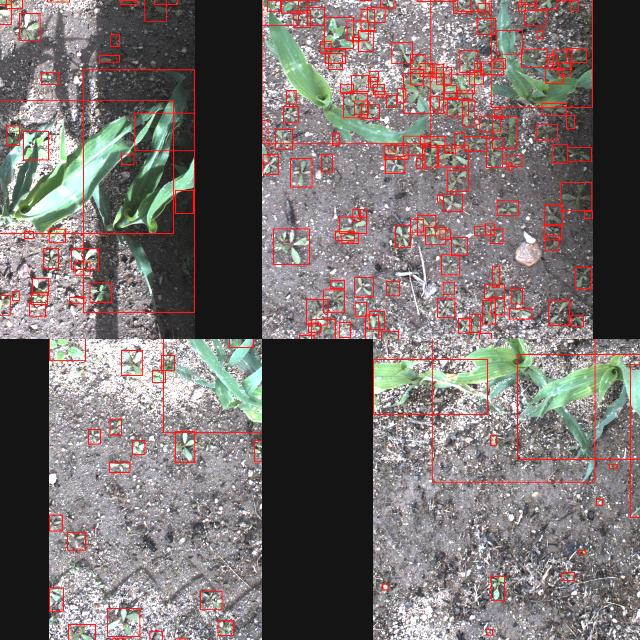crop: (84, 68, 194, 312), (262, 0, 430, 142), (431, 339, 594, 481), (0, 99, 173, 232), (517, 353, 640, 458), (490, 0, 591, 106), (162, 339, 262, 432), (372, 358, 488, 414), (262, 119, 267, 162)
weed: (134, 112, 194, 150), (403, 73, 443, 113), (272, 228, 308, 264), (323, 16, 352, 48), (560, 182, 592, 210), (107, 608, 139, 636), (22, 130, 48, 160), (492, 116, 516, 148), (48, 339, 84, 360), (496, 29, 522, 53), (174, 431, 194, 462), (438, 146, 468, 166), (444, 73, 474, 93), (342, 93, 366, 117), (19, 12, 39, 40), (290, 158, 310, 186), (548, 300, 570, 324), (120, 350, 142, 374), (72, 248, 98, 268), (306, 298, 326, 324), (310, 318, 334, 339), (338, 216, 366, 234), (486, 137, 502, 167), (521, 48, 547, 66), (322, 289, 343, 311), (447, 169, 468, 191), (67, 623, 94, 640), (89, 282, 111, 302), (416, 214, 436, 236), (346, 20, 368, 40), (144, 0, 165, 20), (391, 42, 411, 62), (175, 190, 193, 212), (544, 204, 562, 226), (402, 136, 424, 154), (459, 50, 477, 72), (200, 591, 222, 609), (353, 276, 372, 296), (441, 254, 459, 274), (425, 226, 445, 244), (442, 193, 462, 211), (552, 50, 572, 68), (274, 128, 292, 148), (447, 98, 468, 115), (575, 266, 591, 288), (394, 225, 410, 247), (524, 9, 546, 25), (364, 314, 378, 339), (383, 145, 407, 159), (567, 146, 591, 160), (542, 102, 566, 116), (490, 576, 504, 600), (306, 7, 324, 25), (67, 531, 85, 549), (42, 248, 58, 268), (438, 298, 454, 318), (384, 156, 404, 172), (536, 123, 556, 139), (480, 115, 500, 131), (476, 18, 496, 34), (262, 154, 278, 174), (462, 100, 474, 126), (281, 0, 307, 12), (422, 145, 436, 167), (464, 136, 486, 150), (360, 9, 374, 31), (481, 60, 503, 74), (48, 588, 62, 610), (497, 200, 518, 214), (368, 311, 384, 329), (482, 299, 494, 323), (543, 224, 561, 240), (451, 237, 467, 255), (552, 144, 568, 162), (350, 75, 368, 91), (361, 102, 379, 118), (366, 6, 384, 22), (410, 54, 426, 72), (292, 10, 310, 26), (5, 125, 19, 145), (484, 284, 504, 298), (325, 48, 345, 62), (358, 30, 372, 50), (566, 48, 586, 62), (457, 0, 485, 10), (32, 278, 48, 294), (282, 106, 298, 122), (545, 68, 563, 82), (508, 308, 532, 318), (420, 136, 444, 146), (0, 0, 10, 23), (29, 301, 45, 315), (49, 228, 65, 242), (490, 298, 504, 314), (327, 53, 341, 69), (436, 67, 450, 83), (48, 514, 62, 530), (453, 0, 470, 13), (108, 462, 130, 472), (41, 72, 59, 84), (160, 354, 173, 370), (334, 230, 354, 240), (228, 339, 253, 347), (534, 0, 556, 9), (321, 154, 332, 172), (354, 100, 368, 114), (419, 62, 433, 76), (469, 70, 483, 84), (218, 620, 232, 634), (74, 262, 90, 274), (31, 292, 47, 304), (510, 287, 522, 303), (386, 280, 398, 296), (506, 154, 522, 166), (546, 234, 558, 250), (410, 68, 422, 84), (109, 418, 121, 434), (87, 428, 99, 444), (253, 439, 262, 460), (0, 295, 9, 315), (469, 314, 479, 332), (340, 232, 358, 242), (338, 322, 350, 336), (354, 302, 366, 316), (458, 318, 470, 332), (570, 314, 584, 326), (490, 229, 502, 243), (410, 218, 422, 232), (444, 84, 456, 98), (431, 63, 443, 77), (558, 62, 570, 76), (132, 440, 144, 454), (492, 266, 500, 286), (454, 132, 464, 148), (380, 330, 397, 339), (152, 370, 164, 382), (266, 0, 279, 11), (120, 154, 134, 164), (99, 54, 119, 61), (429, 95, 439, 109), (458, 89, 472, 99), (285, 90, 295, 104), (442, 282, 453, 294), (148, 630, 161, 640), (110, 34, 120, 46), (307, 322, 319, 332), (474, 225, 486, 235), (386, 95, 396, 107), (320, 40, 330, 52), (493, 58, 505, 68), (478, 2, 488, 14), (70, 296, 84, 304), (6, 0, 22, 7), (330, 279, 344, 287), (566, 114, 574, 128), (397, 88, 405, 102), (485, 223, 495, 234), (372, 84, 383, 94), (379, 0, 394, 7), (440, 229, 450, 239), (368, 70, 378, 80), (352, 209, 360, 221), (340, 84, 352, 92), (562, 572, 574, 580), (479, 332, 491, 339), (416, 157, 424, 167), (549, 54, 557, 64), (570, 0, 578, 10), (298, 334, 313, 339), (23, 230, 32, 238), (494, 109, 502, 118), (374, 91, 386, 97), (474, 62, 480, 74), (518, 1, 526, 10), (332, 132, 338, 144), (369, 76, 376, 86), (120, 0, 136, 4), (584, 210, 592, 218), (387, 144, 395, 152), (358, 208, 366, 216), (536, 30, 544, 38), (12, 290, 18, 300), (520, 0, 535, 4), (490, 434, 496, 444), (444, 148, 456, 152), (351, 36, 359, 42), (596, 499, 602, 505), (507, 162, 511, 170), (609, 464, 617, 468), (578, 549, 586, 553), (436, 194, 439, 202), (486, 630, 492, 634), (382, 583, 386, 589)
